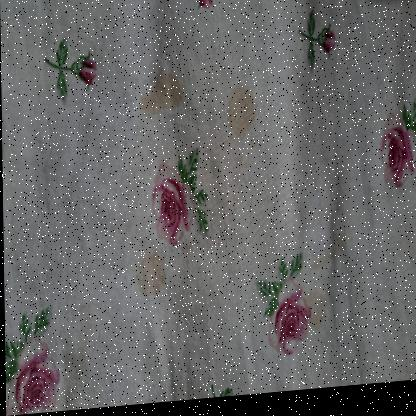spot: (306, 226, 355, 284), (134, 75, 195, 121), (130, 249, 173, 308), (228, 79, 258, 151), (294, 294, 331, 351)
